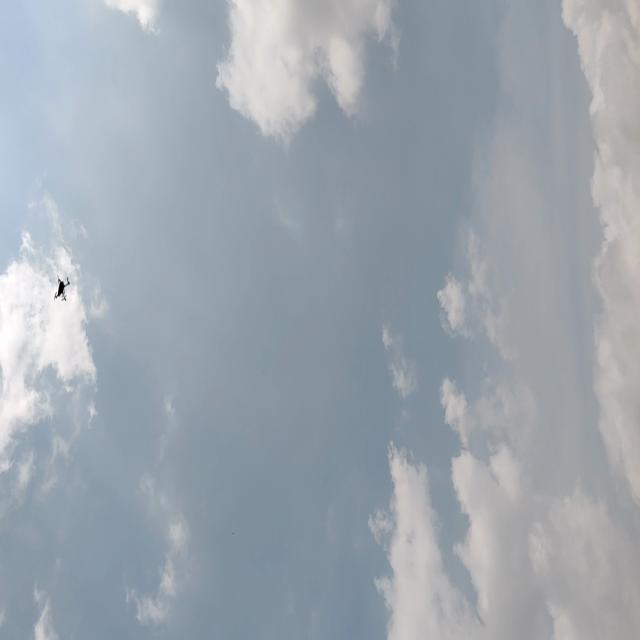drone: (48, 266, 80, 314)
